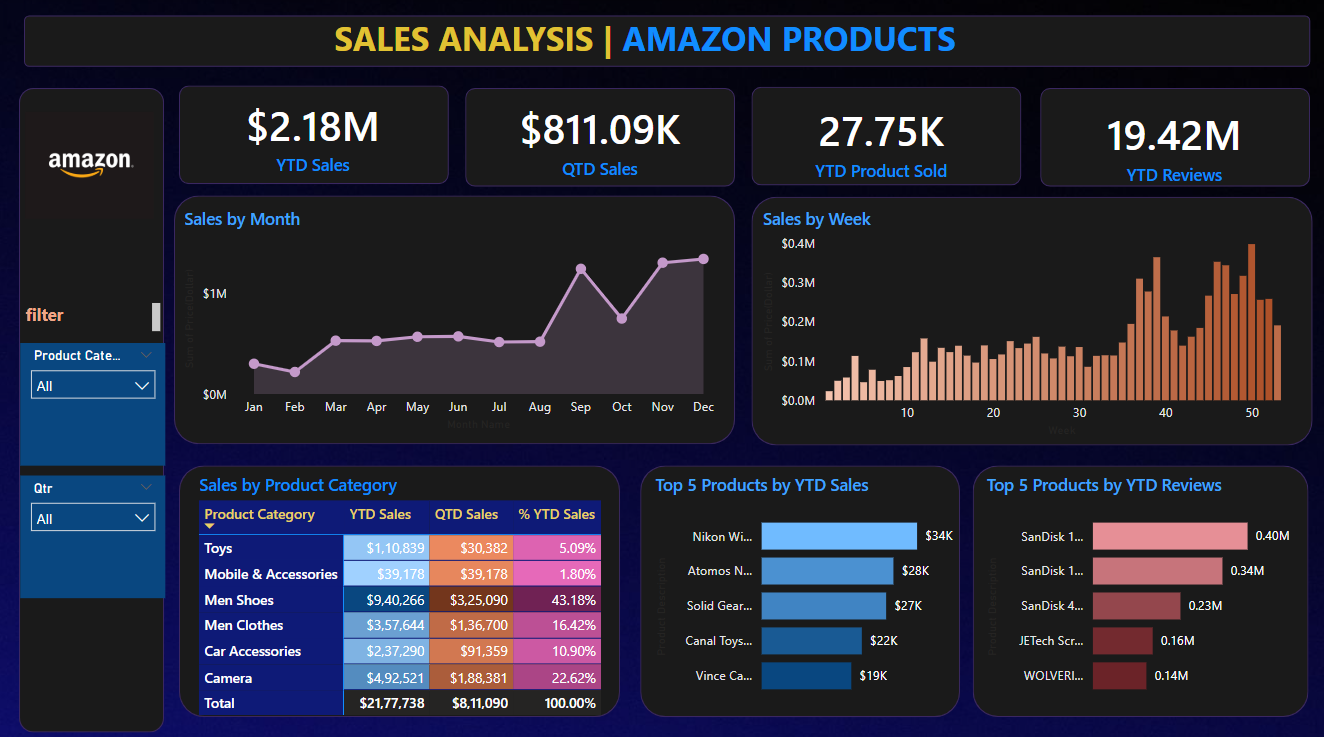

What the dashboard file says about the page in this screenshot:
{"tool":"powerbi","page":{"name":"Page 1","canvas":[1280,720],"ordinal":0},"visuals":[{"type":"shape","box":[24.1,16.9,1241.4,49.5],"z":0},{"type":"shape","box":[173.7,84.5,260.6,95.3],"z":1000},{"type":"textbox","box":[318.5,12.1,621.3,59.1],"z":2000},{"type":"card","fields":{"Values":["Amazon_Data.YTD Sales"]},"box":[173.7,88.1,259.4,89.3],"z":3000},{"type":"shape","box":[19.3,86.9,140,622],"z":4000},{"type":"shape","box":[450,86.9,260.6,95.3],"z":5000},{"type":"shape","box":[726.3,85.7,260.6,95.3],"z":6000},{"type":"shape","box":[1005,86.9,260.6,95.3],"z":7000},{"type":"card","fields":{"Values":["Amazon_Data.QTD Sales"]},"box":[450,94.1,260.6,84.5],"z":8000},{"type":"card","fields":{"Values":["Amazon_Data.YTD Product Sold"]},"box":[725.7,94.3,251.4,88.6],"z":9000},{"type":"shape","box":[168.9,190.6,541.7,240.1],"z":10000},{"type":"card","fields":{"Values":["Amazon_Data.YTD Reviews"]},"box":[1018.6,101.4,232.9,81.4],"z":11000},{"type":"areaChart","title":"Sales by Month","fields":{"Category":["Date Table.Month Name"],"Y":["Sum(Amazon_Data.Price(Dollar))"]},"box":[173.7,201.5,527.2,220.8],"z":12000},{"type":"shape","box":[726.3,191.8,541.7,240.1],"z":13000},{"type":"columnChart","title":"Sales by Week","fields":{"Category":["Date Table.Week"],"Y":["Sum(Amazon_Data.Price(Dollar))"]},"box":[732.3,201.5,530.8,226.8],"z":14000},{"type":"shape","title":"Sales by Product Category","box":[174.3,451.4,425.7,242.9],"z":15000},{"type":"pivotTable","title":"Sales by Product Category","fields":{"Rows":["Amazon_Data.Product Category"],"Values":["Amazon_Data.YTD Sales1","Amazon_Data.QTD Sales","Amazon_Data.YTD Sales"]},"box":[188.6,458.6,430,242.9],"z":16000},{"type":"shape","title":"Sales by Product Category","box":[618.6,451.4,308.6,242.9],"z":17000},{"type":"shape","title":"Sales by Product Category","box":[940,451.4,324.3,242.9],"z":18000},{"type":"barChart","title":"Top 5 Products by YTD Sales","fields":{"Category":["Amazon_Data.Product Description"],"Y":["Amazon_Data.YTD Sales"]},"box":[628.6,458.6,308.6,228.6],"z":19000},{"type":"barChart","title":"Top 5 Products by YTD Reviews","fields":{"Category":["Amazon_Data.Product Description"],"Y":["Amazon_Data.YTD Reviews"]},"box":[948.6,458.6,308.6,228.6],"z":20000},{"type":"slicer","fields":{"Values":["Amazon_Data.Product Category"]},"box":[20,332.9,140,118.6],"z":21000},{"type":"slicer","fields":{"Values":["Date Table.Qtr"]},"box":[20,461.4,140,118.6],"z":22000},{"type":"textbox","box":[20,290,140,42.9],"z":23000},{"type":"image","box":[0,67.1,174.3,188.6],"z":23001}]}

Visuals, with their boxes in screenshot pixels (x1, y1, x2, y2), scaled from the page's 1280x720 canvas onto the 1324x737 screenshot:
shape: rect(25, 17, 1309, 68)
shape: rect(180, 86, 449, 184)
textbox: rect(329, 12, 972, 73)
card - Amazon_Data.YTD Sales: rect(180, 90, 448, 182)
shape: rect(20, 89, 165, 726)
shape: rect(465, 89, 735, 187)
shape: rect(751, 88, 1021, 185)
shape: rect(1040, 89, 1309, 187)
card - Amazon_Data.QTD Sales: rect(465, 96, 735, 183)
card - Amazon_Data.YTD Product Sold: rect(751, 97, 1011, 187)
shape: rect(175, 195, 735, 441)
card - Amazon_Data.YTD Reviews: rect(1054, 104, 1295, 187)
"Sales by Month" areaChart: rect(180, 206, 725, 432)
shape: rect(751, 196, 1312, 442)
"Sales by Week" columnChart: rect(757, 206, 1307, 438)
"Sales by Product Category" shape: rect(180, 462, 621, 711)
"Sales by Product Category" pivotTable: rect(195, 469, 640, 718)
"Sales by Product Category" shape: rect(640, 462, 959, 711)
"Sales by Product Category" shape: rect(972, 462, 1308, 711)
"Top 5 Products by YTD Sales" barChart: rect(650, 469, 969, 703)
"Top 5 Products by YTD Reviews" barChart: rect(981, 469, 1300, 703)
slicer - Amazon_Data.Product Category: rect(21, 341, 166, 462)
slicer - Date Table.Qtr: rect(21, 472, 166, 594)
textbox: rect(21, 297, 166, 341)
image: rect(0, 69, 180, 262)
